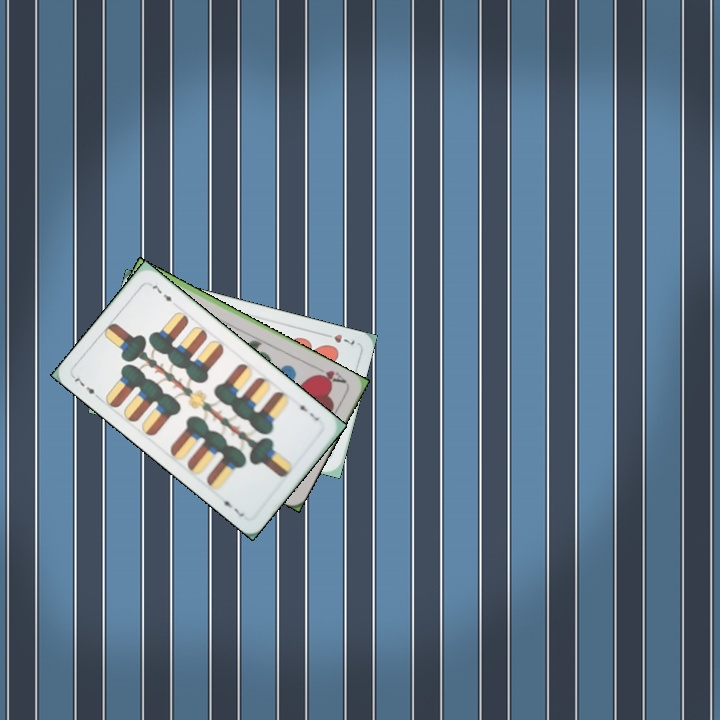E7: (69, 371, 103, 402), (293, 397, 322, 424)
H7: (319, 330, 358, 348)
HA: (310, 363, 349, 387)
